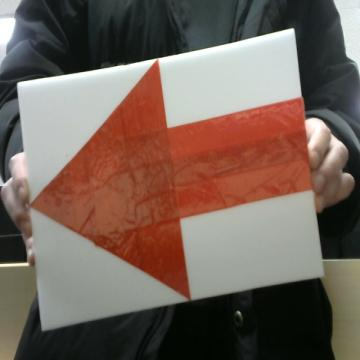red_left: (31, 60, 310, 298)
